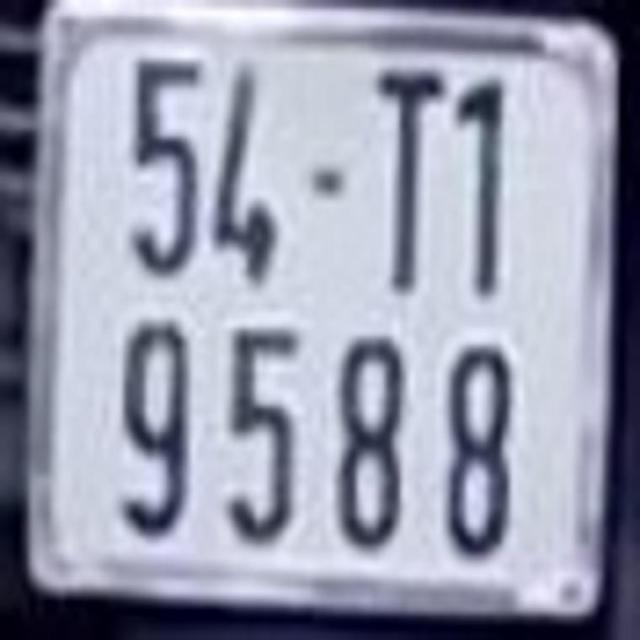1: (454, 74, 508, 296)
4: (215, 63, 278, 284)
5: (227, 324, 299, 543), (130, 55, 200, 276)
8: (338, 334, 403, 548), (447, 345, 511, 558)
9: (119, 318, 191, 538)
T: (376, 66, 443, 294)
